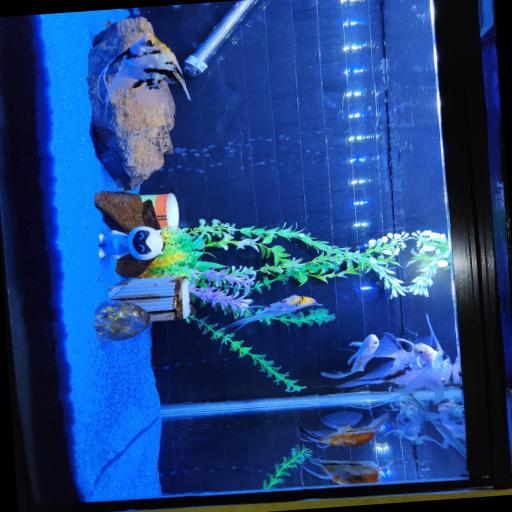Fish: (97, 33, 189, 104), (335, 332, 421, 387), (397, 314, 450, 403), (224, 294, 321, 331), (299, 411, 388, 447), (385, 403, 448, 447), (320, 334, 378, 377), (303, 458, 391, 484)
